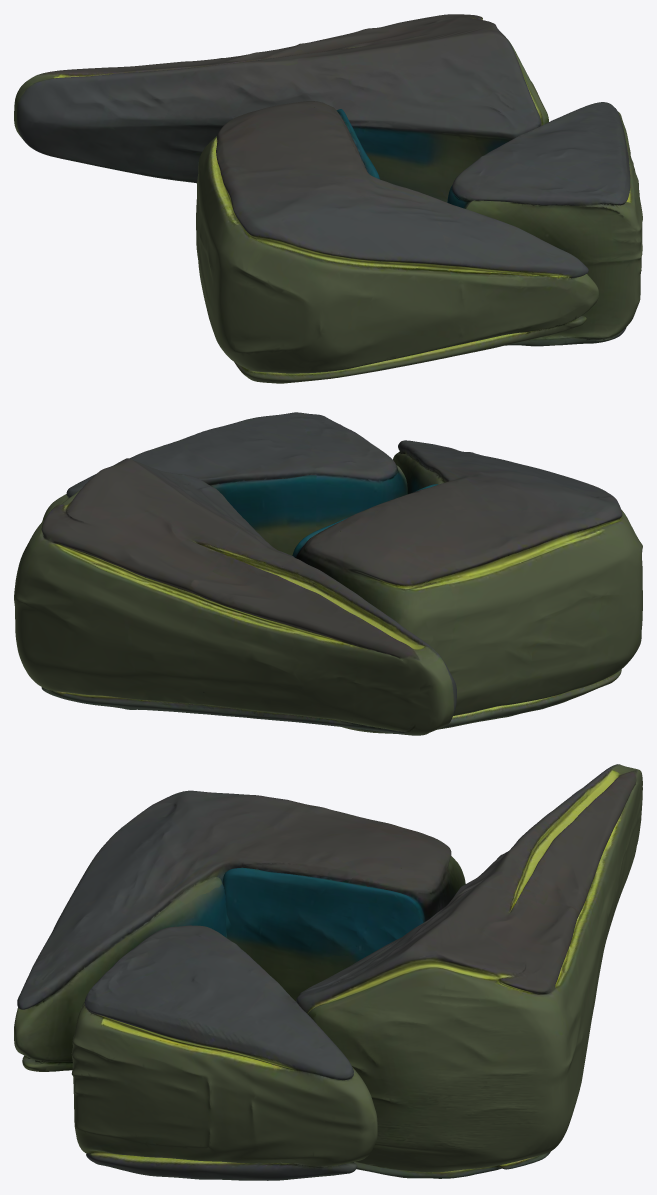
File: signal-creature.glb
3 views of the same model, one above another, from view 1: azimuth 30°, elevation 25°; view 2: azimuth 150°, elevation 25°; view 3: azimuth 270°, elevation 25° (orthographic). The views are drawn at different scales.
Parts seen in each view (by area): view 1: tripo_node_12207947-a7b5-4c61-9fbf-b239a6bfa5cc; view 2: tripo_node_12207947-a7b5-4c61-9fbf-b239a6bfa5cc; view 3: tripo_node_12207947-a7b5-4c61-9fbf-b239a6bfa5cc.
Part boxes in pixels (x1=…): tripo_node_12207947-a7b5-4c61-9fbf-b239a6bfa5cc: x1=14, y1=14, x2=642, y2=383; tripo_node_12207947-a7b5-4c61-9fbf-b239a6bfa5cc: x1=14, y1=412, x2=642, y2=735; tripo_node_12207947-a7b5-4c61-9fbf-b239a6bfa5cc: x1=14, y1=764, x2=642, y2=1180.
Bounding box in the file's own units: 0.9796 × 0.3864 × 0.9489.
Materials: 1 (1 with a texture image).
